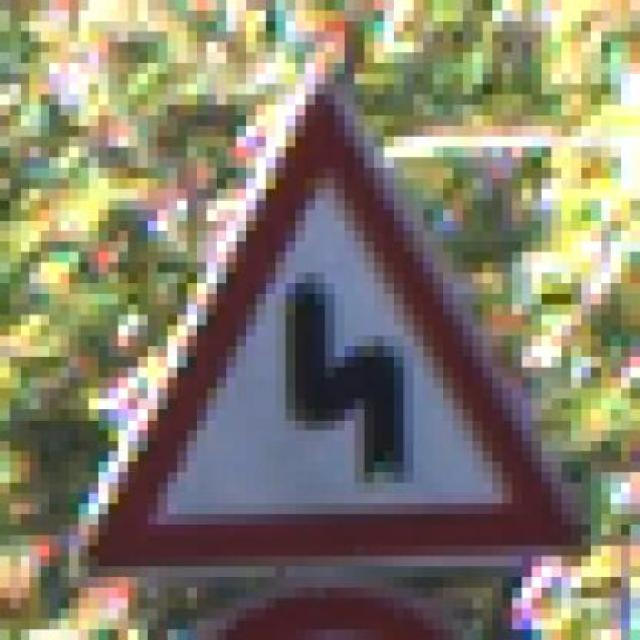Left Zig Zag Traffic: (49, 63, 591, 588)
